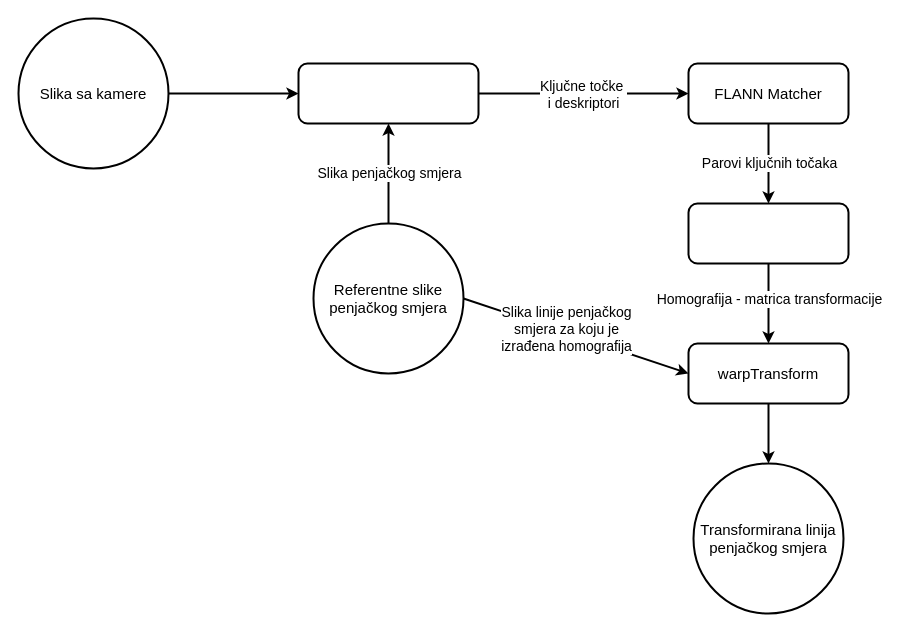
Some shapes in this 899 by 631 pixel diagram are drawn without their labels. Here are the shapes that lost their labels. From the top down, the centre of each, then its label:
(388,93): Algoritam SIFT
(768,233): findHomography
